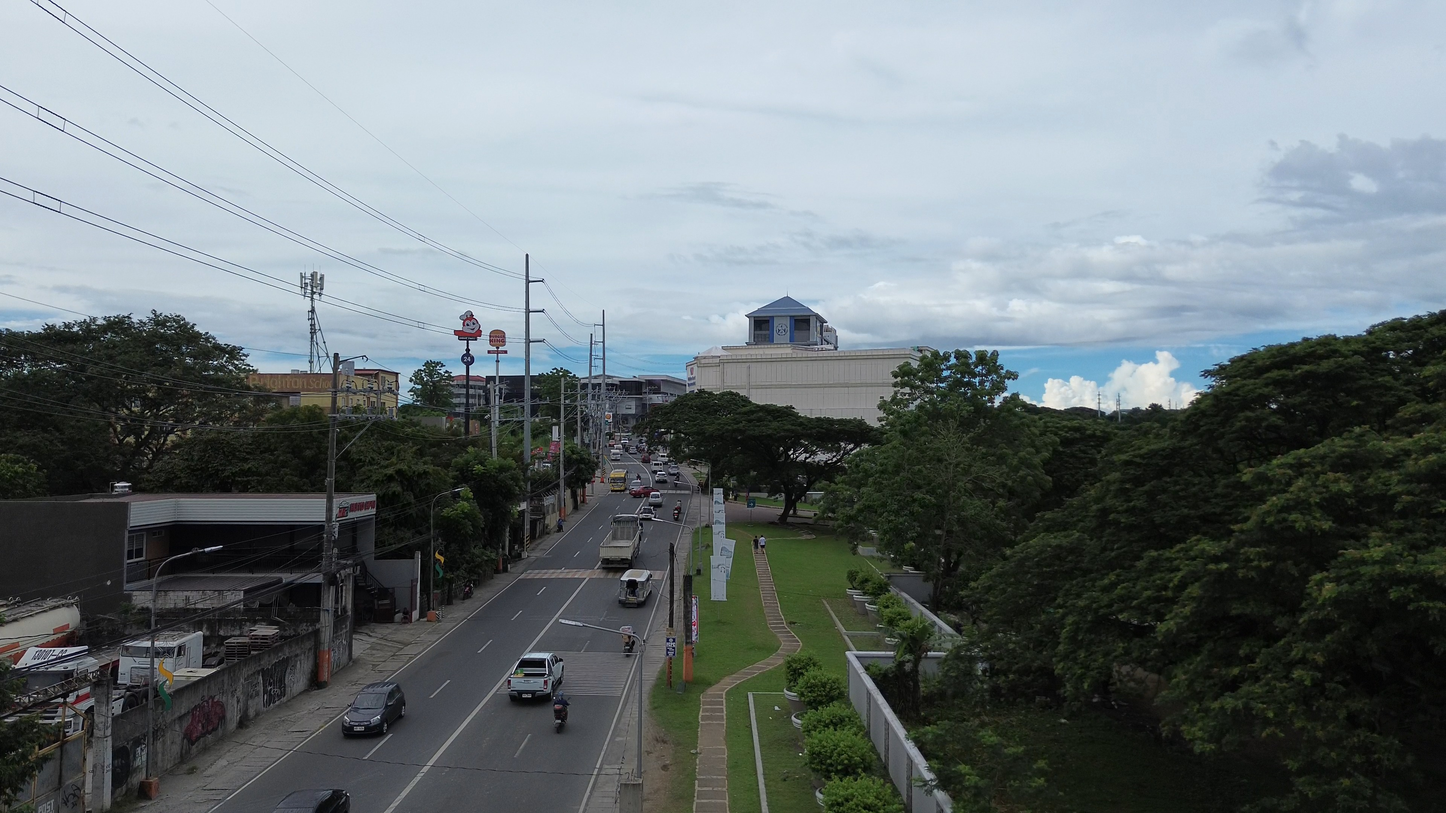car: (273, 789, 350, 813), (630, 484, 657, 497), (647, 489, 663, 507), (667, 464, 680, 475)
motorcycle: (553, 703, 567, 732)
truck: (12, 647, 106, 735)
vehicle: (0, 597, 80, 662), (15, 646, 102, 694), (342, 682, 404, 735), (506, 653, 564, 700), (599, 514, 642, 567), (155, 630, 203, 673), (619, 569, 653, 607), (609, 469, 627, 492), (629, 482, 656, 497), (555, 702, 567, 732), (648, 490, 663, 509), (637, 506, 655, 521), (654, 471, 668, 484), (610, 448, 623, 461), (667, 464, 680, 476), (640, 452, 650, 464)
